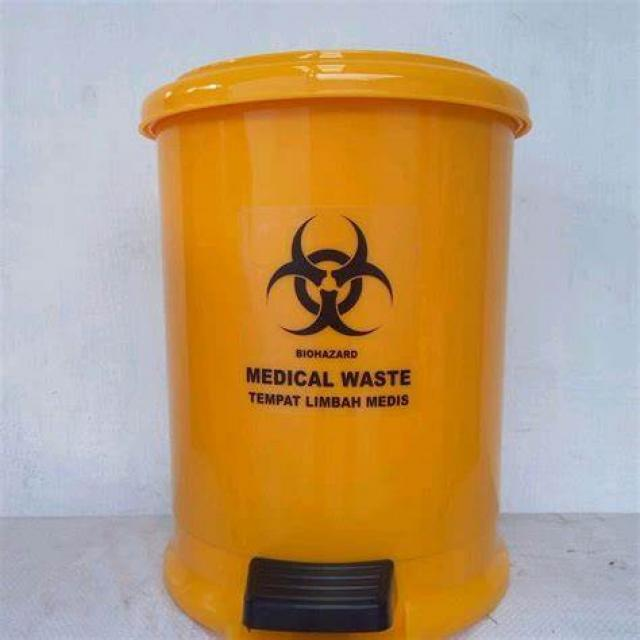garbage container: (131, 44, 533, 640)
